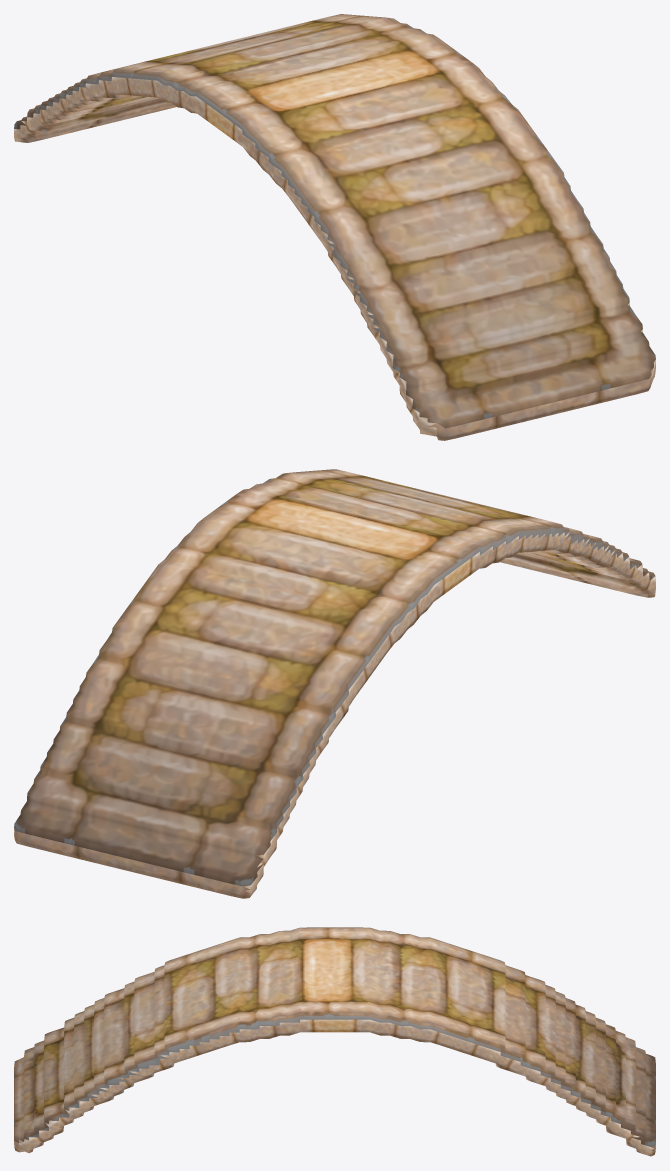
The model's file is bridge-arch.glb.
3 views of the same model, one above another, from view 1: azimuth 30°, elevation 25°; view 2: azimuth 150°, elevation 25°; view 3: azimuth 270°, elevation 25° (orthographic). The views are drawn at different scales.
Bounding box in the file's own units: 1.32 × 0.9982 × 4.04.
1 material, 1 textured.
